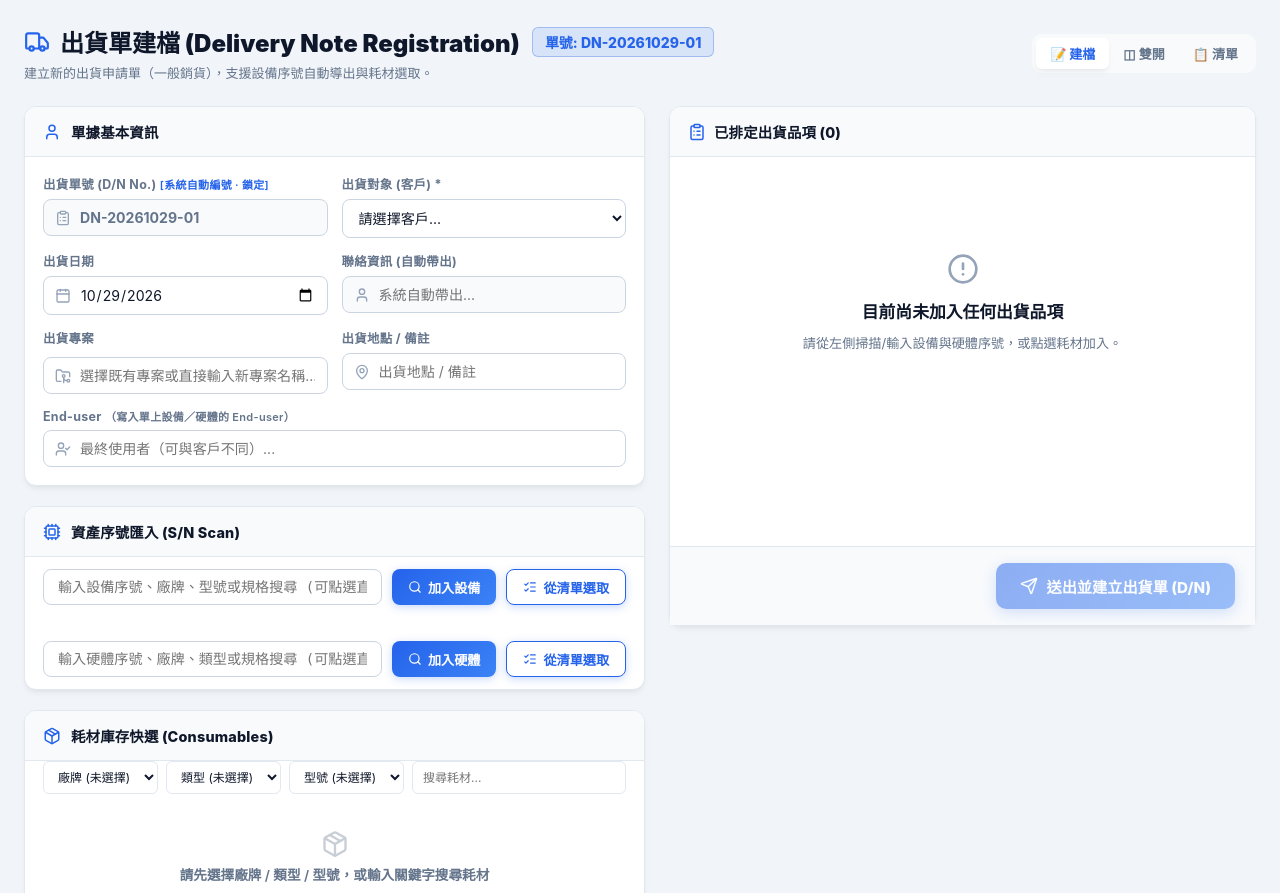
Test case: Outbound 出貨單多維度模糊搜尋與一鍵直接加入測試 › 若輸入關鍵字後按下 Enter 或點擊加入按鈕，且剛好只有 1 筆結果，自動直接加入該資產
Type "Micron" into the field with placeholder "輸入硬體序號、廠牌、類型或規格搜尋 (可點選直接加入)..." at (212, 659), box [43,641,382,677]
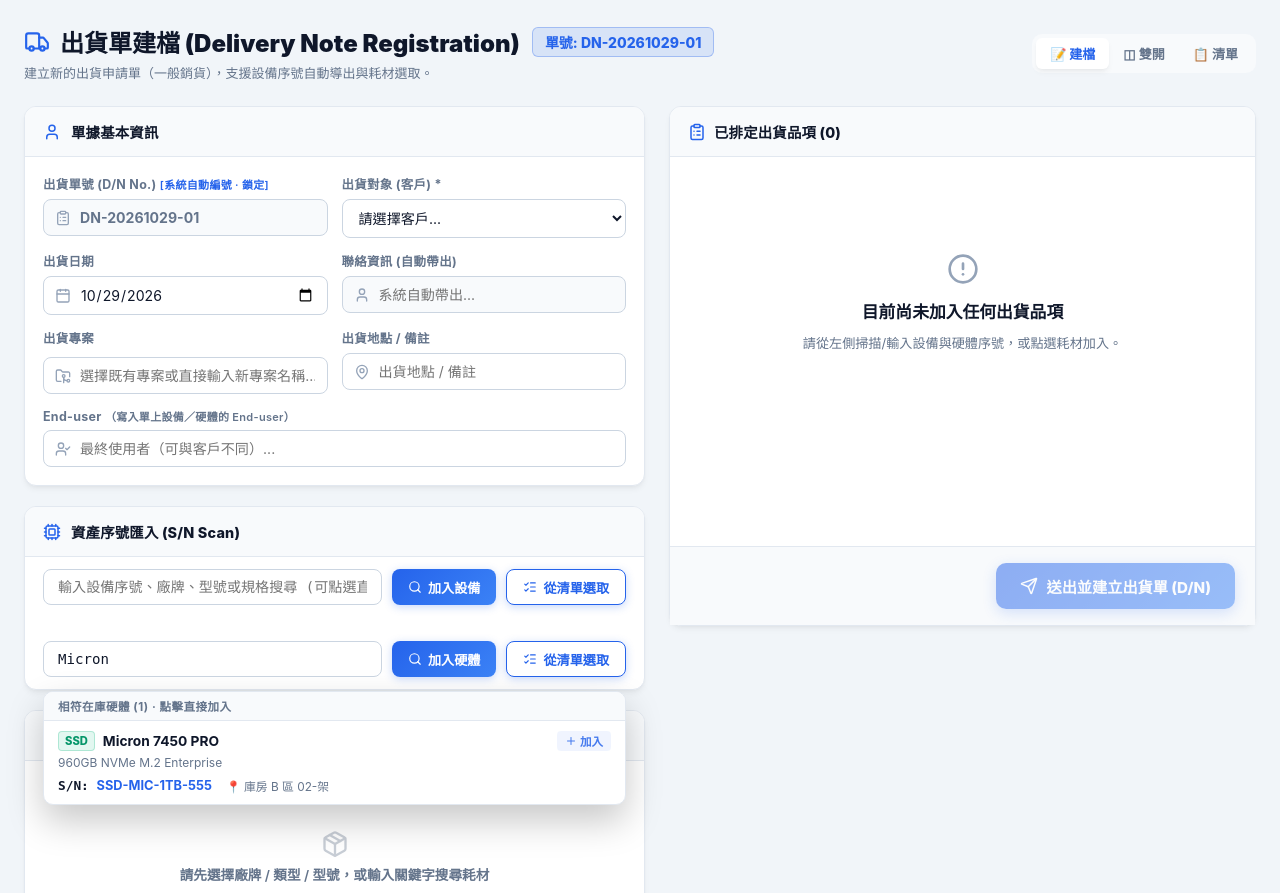
# 點擊「加入硬體」按鈕
Click the button "加入硬體" at (444, 659), box [392,641,496,677]
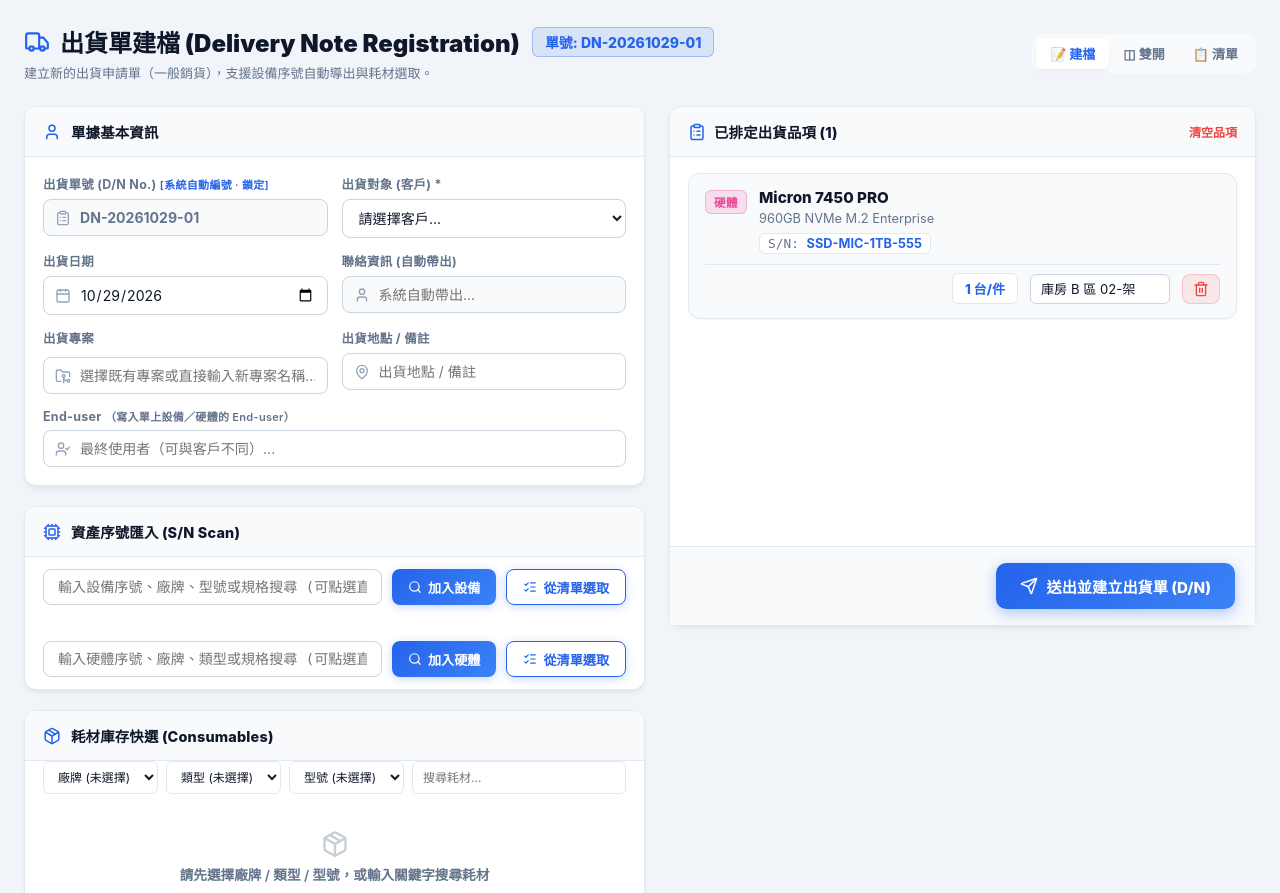
Expected: the text "已排定出貨品項 (1)" is shown, [714,121,838,142]
